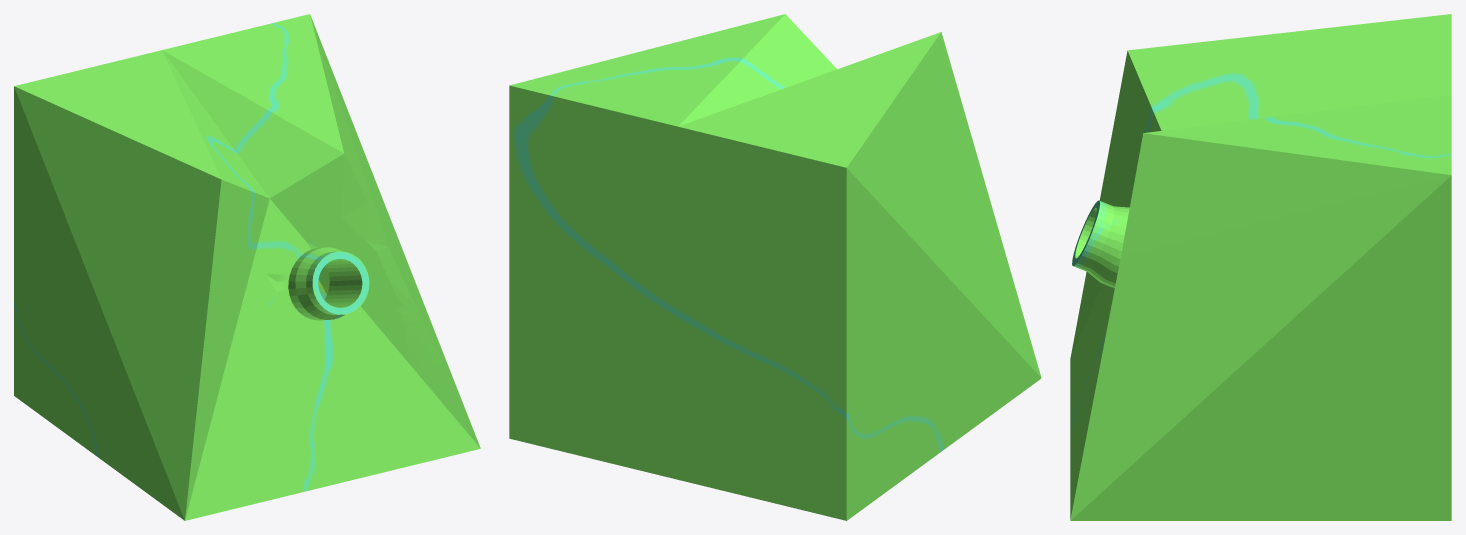
File: entrance.glb
The picture shows the model from 3 angles, left to right: view 1: azimuth 30°, elevation 25°; view 2: azimuth 150°, elevation 25°; view 3: azimuth 270°, elevation 25°; orthographic projection. The views are drawn at different scales.
Parts seen in each view (by area): view 1: entrance-col; view 2: entrance-col; view 3: entrance-col.
Boxes of the visible parts, box(x1,y1,x2,y2) form: entrance-col: box(14, 14, 480, 520); entrance-col: box(509, 14, 1041, 520); entrance-col: box(1070, 14, 1451, 520).
Size of the model in its own units: 2 by 2 by 2.
1 material, 1 textured.
